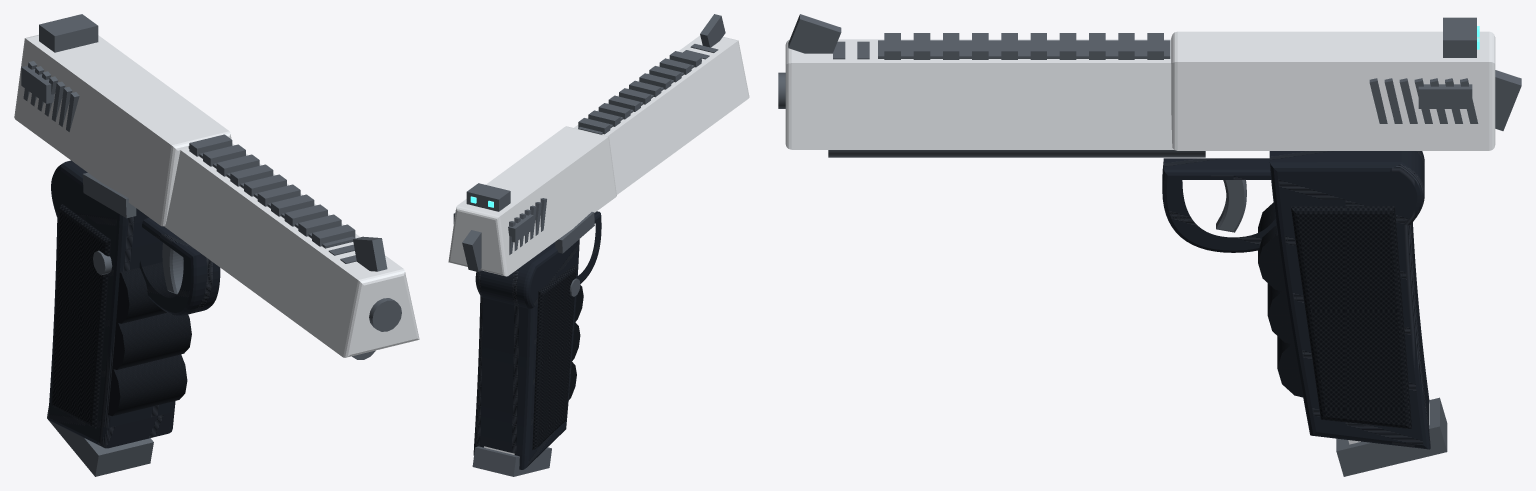
File: desert_eagle.glb
3 renders of one model, left to right at view 1: azimuth 30°, elevation 25°; view 2: azimuth 150°, elevation 25°; view 3: azimuth 270°, elevation 25°, orthographic. The views are drawn at different scales.
Visible parts, largest first — view 1: Deagle_Frame_metalChrome, Deagle_Slide_metalChrome, Deagle_Frame_polymer, Deagle_Frame_metalPrimary, Deagle_Frame_metalDark, Deagle_Slide_metalDark, Deagle_Mag_metalDark; view 2: Deagle_Frame_metalPrimary, Deagle_Slide_metalChrome, Deagle_Frame_metalChrome, Deagle_Frame_polymer, Deagle_Frame_metalDark, Deagle_Slide_metalDark, Deagle_Mag_metalDark, Deagle_Hammer_metalDark; view 3: Deagle_Frame_metalChrome, Deagle_Slide_metalChrome, Deagle_Frame_polymer, Deagle_Frame_metalPrimary, Deagle_Frame_metalDark, Deagle_Slide_metalDark, Deagle_Mag_metalDark, Deagle_Hammer_metalDark.
Boxes of the visible parts, x1,y1,x2,y2 form: Deagle_Frame_metalChrome: [164, 143, 419, 357]; Deagle_Slide_metalChrome: [14, 34, 231, 226]; Deagle_Frame_polymer: [51, 204, 191, 428]; Deagle_Frame_metalPrimary: [48, 160, 220, 448]; Deagle_Frame_metalDark: [82, 134, 401, 359]; Deagle_Slide_metalDark: [21, 14, 98, 131]; Deagle_Mag_metalDark: [47, 406, 153, 476]; Deagle_Frame_metalPrimary: [473, 211, 601, 469]; Deagle_Slide_metalChrome: [448, 126, 616, 276]; Deagle_Frame_metalChrome: [574, 35, 749, 194]; Deagle_Frame_polymer: [532, 265, 583, 449]; Deagle_Frame_metalDark: [555, 14, 725, 296]; Deagle_Slide_metalDark: [453, 183, 546, 254]; Deagle_Mag_metalDark: [472, 446, 551, 476]; Deagle_Hammer_metalDark: [462, 230, 481, 271]; Deagle_Frame_metalChrome: [785, 39, 1173, 149]; Deagle_Slide_metalChrome: [1171, 31, 1495, 150]; Deagle_Frame_polymer: [1258, 202, 1411, 428]; Deagle_Frame_metalPrimary: [1162, 151, 1430, 449]; Deagle_Frame_metalDark: [778, 14, 1246, 232]; Deagle_Slide_metalDark: [1369, 17, 1478, 123]; Deagle_Mag_metalDark: [1336, 397, 1447, 476]; Deagle_Hammer_metalDark: [1495, 70, 1521, 130].
Bounding box in the file's own units: 0.043 × 0.2021 × 0.3053.
7 materials, 2 textured.
